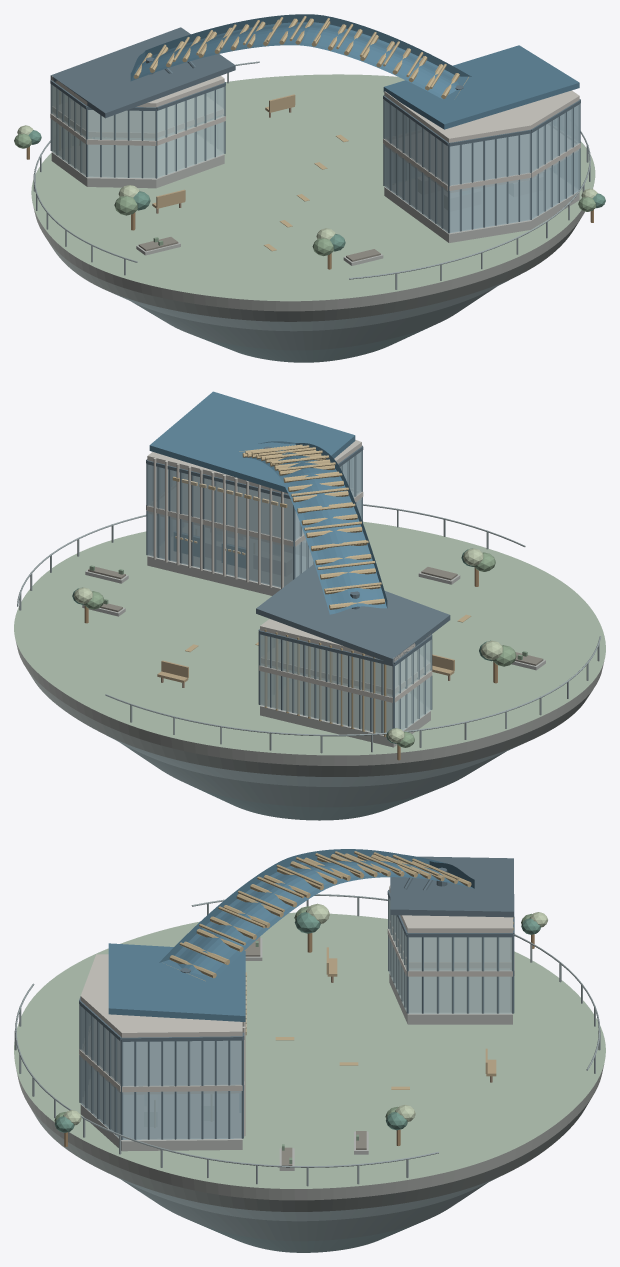
File: D_R21_policy_landmark.glb
3 renders of one model, top to bottom at view 1: azimuth 30°, elevation 25°; view 2: azimuth 150°, elevation 25°; view 3: azimuth 270°, elevation 25°, orthographic. The views are drawn at different scales.
Parts seen in each view (by area): view 1: grass, civicSteel, civicSky, civicGlass, mistglass, stone2, civicStone, cliff2, cliff3, civicGold, cliff, cliff_dark (+6 smaller); view 2: grass, civicSky, civicSteel, civicGlass, mistglass, stone2, civicStone, civicGold, cliff2, cliff3, cliff, metal (+5 smaller); view 3: grass, civicSky, civicGlass, civicSteel, stone2, civicStone, mistglass, cliff3, civicGold, cliff2, metal, cliff (+4 smaller).
Boxes of the visible parts, x1,y1,x2,y2 form: grass: (31,74,595,301); civicSteel: (50,27,580,233); civicSky: (130,14,579,129); civicGlass: (384,100,579,232); mistglass: (51,84,224,178); stone2: (33,152,584,311); civicStone: (50,75,580,192); cliff2: (131,287,495,350); cliff3: (47,220,579,321); civicGold: (133,16,468,251); cliff: (111,278,511,331); cliff_dark: (193,324,435,362); grass: (14,521,605,755); civicSky: (149,391,387,614); civicSteel: (146,445,450,732); civicGlass: (147,451,362,587); mistglass: (260,634,431,734); stone2: (16,555,603,765); civicStone: (146,440,432,702); civicGold: (172,444,471,736); cliff2: (121,743,504,807); cliff3: (27,670,592,776); cliff: (106,735,523,786); metal: (17,504,600,753); grass: (14,912,605,1188); civicSky: (108,849,474,1021); civicGlass: (80,1005,241,1139); civicSteel: (79,856,514,1139); stone2: (16,938,604,1200); civicStone: (79,885,514,1136); mistglass: (388,897,512,1013); cliff3: (30,1099,590,1211); civicGold: (166,851,513,1089); cliff2: (122,1180,486,1241); metal: (14,894,600,1186); cliff: (106,1172,500,1221).
Bounding box in the file's own units: 31.67 × 18.08 × 28.68.
